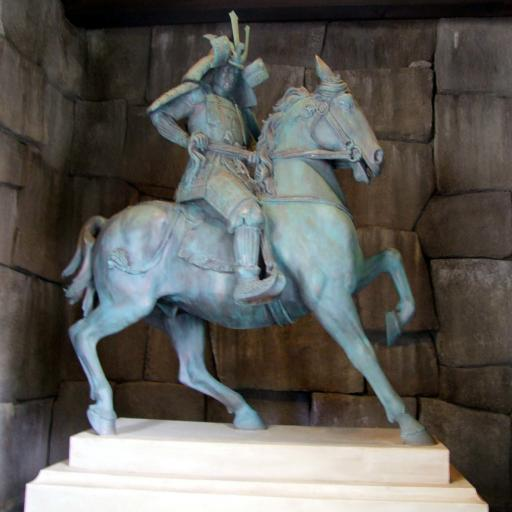horse: (58, 53, 440, 443)
